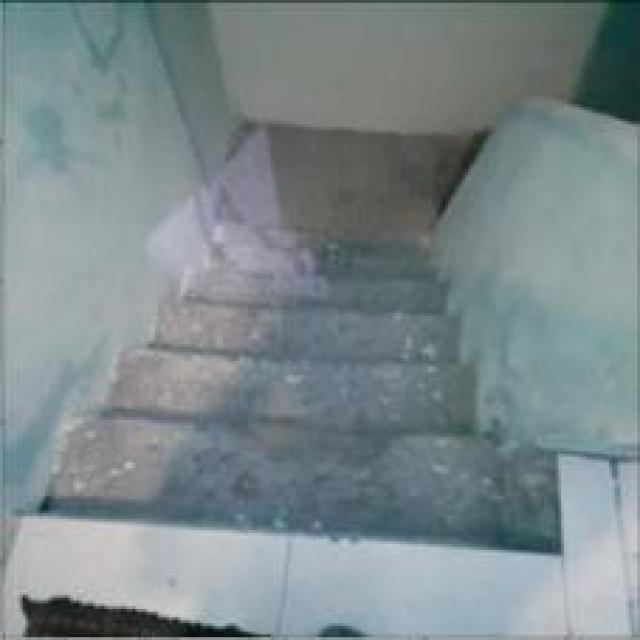downstair: (55, 345, 489, 582)
